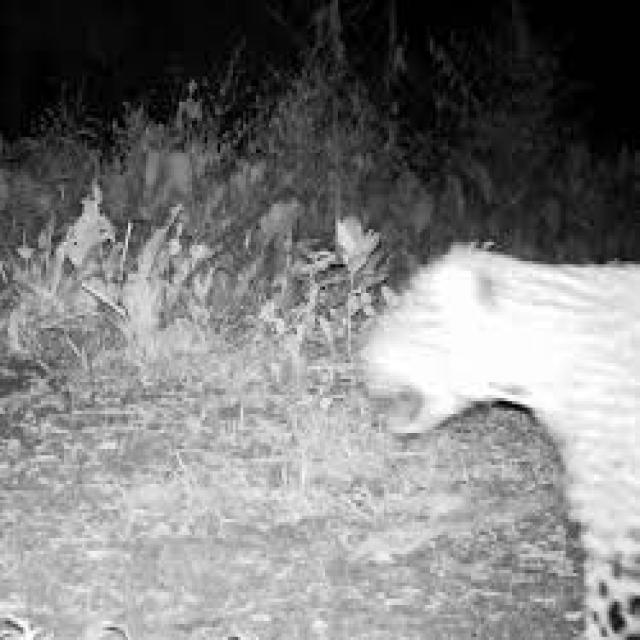Jaguar: (358, 242, 640, 637)
